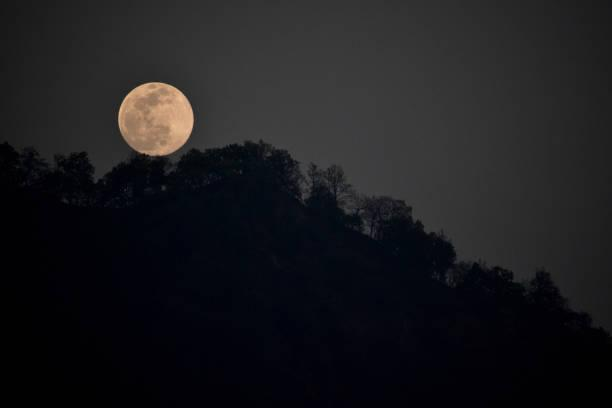moon: (109, 76, 201, 158)
